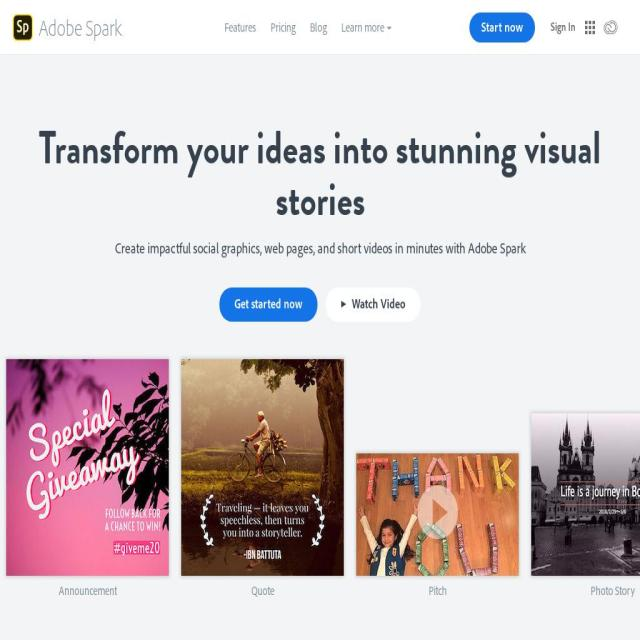button: (220, 288, 318, 322), (326, 288, 420, 322), (469, 12, 535, 42), (0, 638, 640, 640), (549, 16, 577, 38)
heading: (0, 122, 640, 225)
image: (6, 359, 169, 576), (181, 359, 344, 576), (0, 0, 640, 54), (356, 453, 519, 576), (531, 413, 640, 576), (417, 484, 458, 539)
link: (6, 584, 169, 597), (181, 584, 344, 597), (356, 584, 519, 597), (531, 584, 640, 597), (342, 19, 384, 35), (224, 19, 256, 35), (270, 19, 296, 35), (310, 19, 327, 35)
text: (0, 234, 640, 262), (39, 13, 122, 42)
